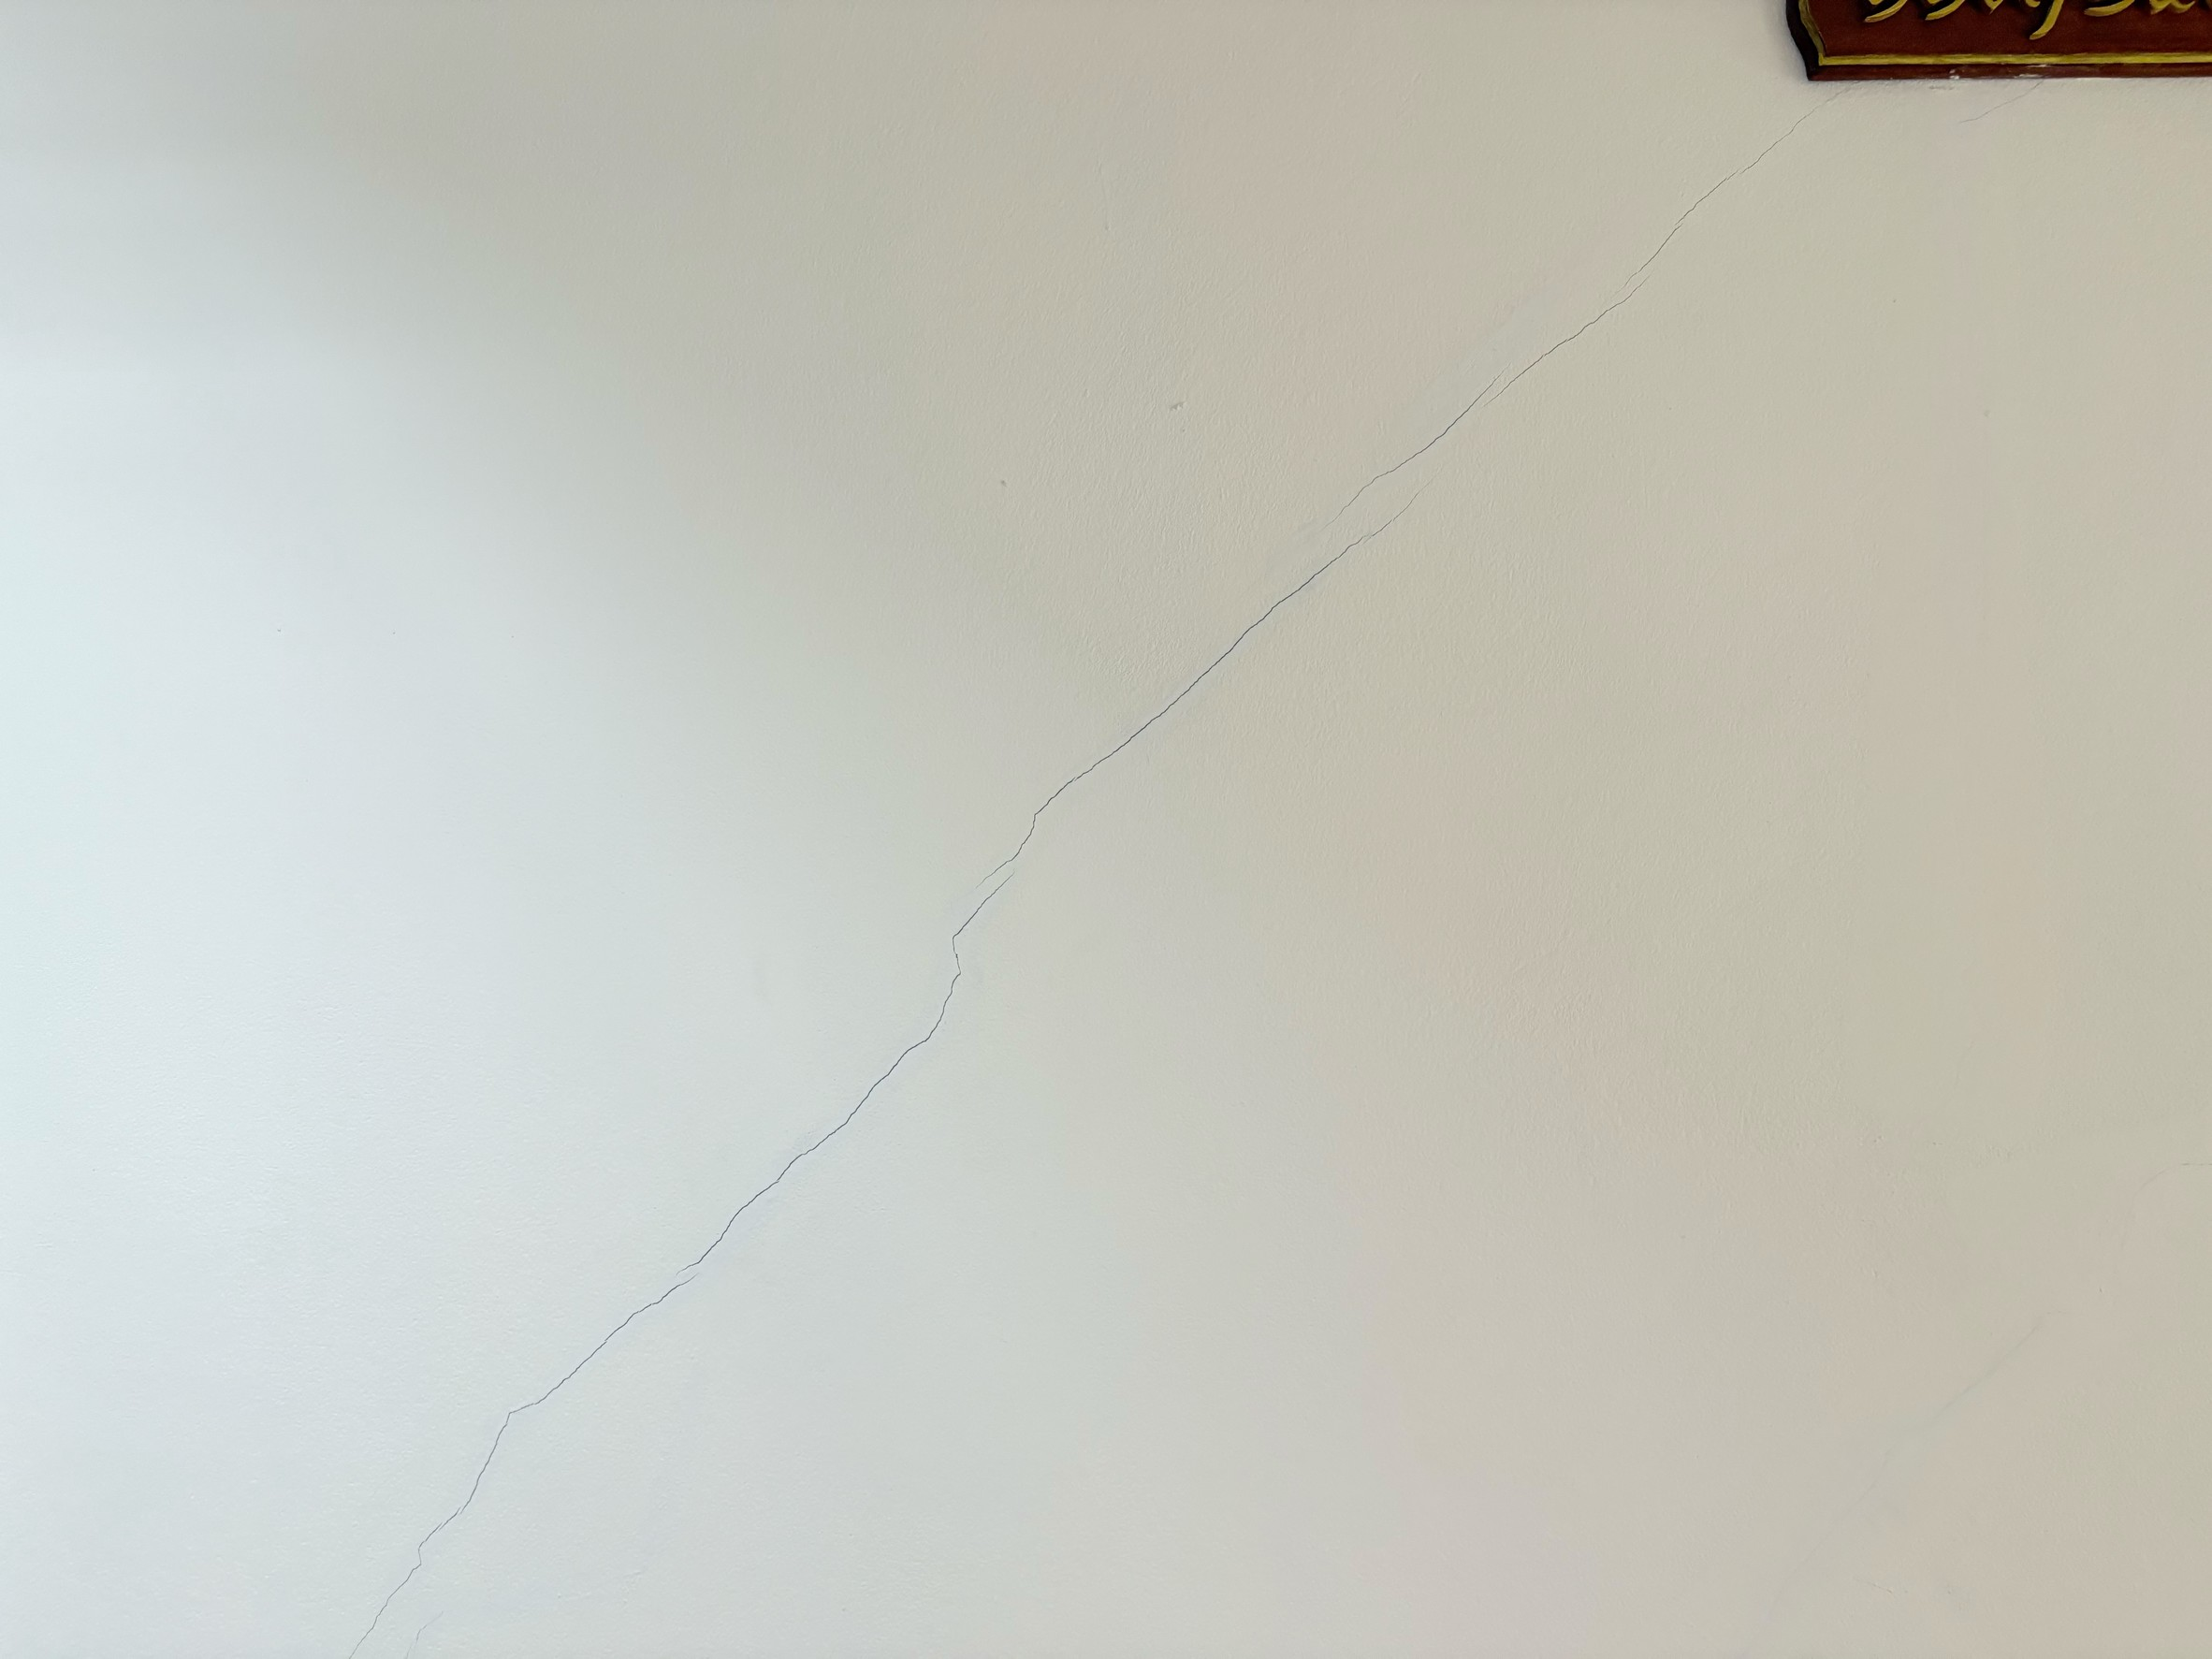Low: (322, 80, 1895, 1652)
